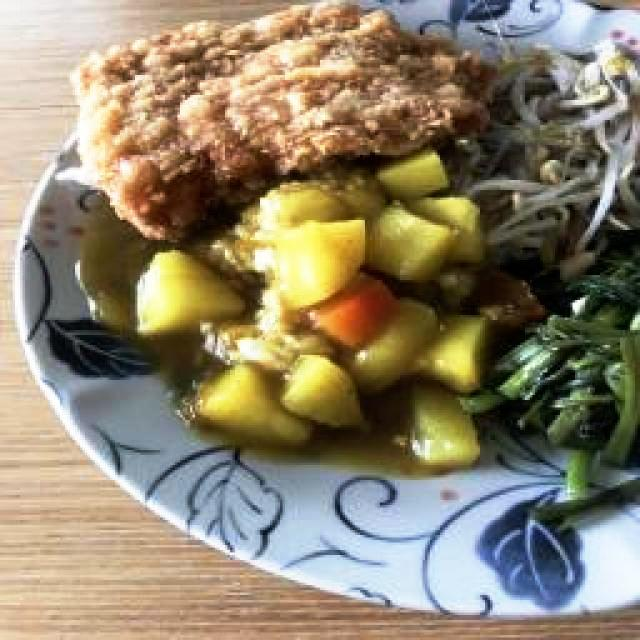curry: (137, 151, 473, 463)
fried_chicken: (73, 4, 492, 237)
mung_bean_sprouts: (486, 45, 640, 256)
water_spinach: (499, 262, 640, 505)
